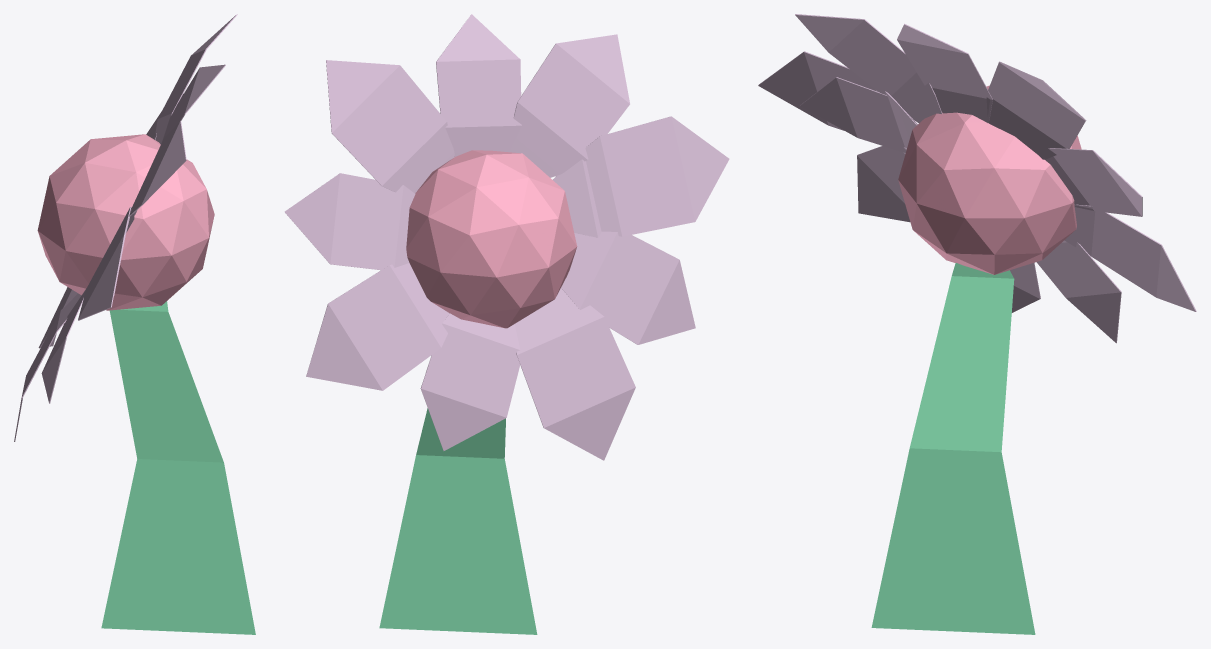
Rendered from fleure.glb.
The picture shows the model from 3 angles, left to right: view 1: azimuth 30°, elevation 25°; view 2: azimuth 150°, elevation 25°; view 3: azimuth 270°, elevation 25°; orthographic projection. The views are drawn at different scales.
Parts seen in each view (by area): view 1: Cylinder.001; view 2: Cylinder.001; view 3: Cylinder.001.
Part boxes in pixels (x1,y1,x2,y2): Cylinder.001: (14, 14, 255, 634); Cylinder.001: (284, 14, 729, 634); Cylinder.001: (758, 14, 1196, 634).
Bounding box in the file's own units: 3.54 × 6.92 × 4.61.
